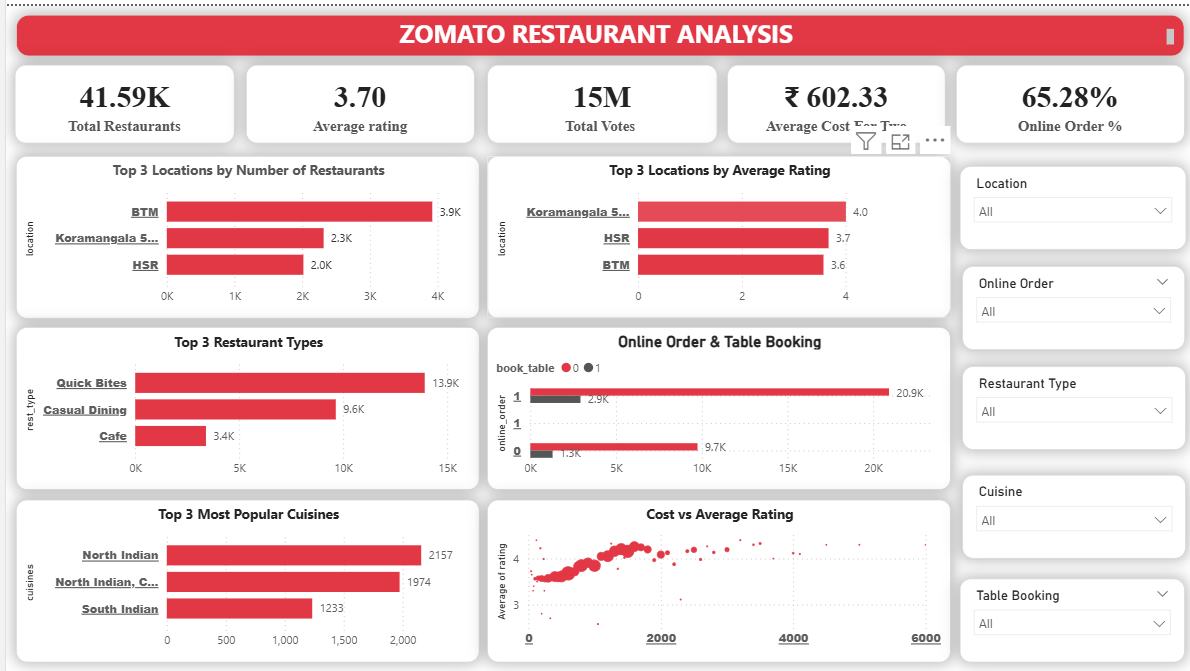

What the dashboard file says about the page in this screenshot:
{"tool":"powerbi","page":{"name":"Page 3","canvas":[1280,720],"ordinal":0},"visuals":[{"type":"textbox","box":[10.8,9.4,1258.7,44.4],"z":0},{"type":"card","fields":{"Values":["CountNonNull(zomato_cleaned.location)"]},"box":[9.4,63.3,236.9,85],"z":1000},{"type":"card","fields":{"Values":["Avg(zomato_cleaned.rating)"]},"box":[258.5,63.3,246.4,85],"z":2000},{"type":"card","fields":{"Values":["Sum(zomato_cleaned.votes)"]},"box":[518.3,63.3,247.7,85],"z":3000},{"type":"card","fields":{"Values":["zomato_cleaned.Average Cost"]},"box":[776.8,63.3,235.6,85],"z":4000},{"type":"card","fields":{"Values":["zomato_cleaned.Online Order %"]},"box":[1023.1,63.3,246.4,85],"z":5000},{"type":"clusteredBarChart","title":"Top 3 Locations by Number of Restaurants ","fields":{"Category":["zomato_cleaned.location"],"Y":["CountNonNull(zomato_cleaned.location)"]},"box":[10.8,161.5,499.5,175],"z":6000},{"type":"clusteredBarChart","title":"Top 3 Locations by Average Rating","fields":{"Category":["zomato_cleaned.location"],"Y":["Avg(zomato_cleaned.rating)"]},"box":[518.3,161.5,499.5,175],"z":7000},{"type":"clusteredBarChart","title":"Top 3 Restaurant Types ","fields":{"Category":["zomato_cleaned.rest_type"],"Y":["CountNonNull(zomato_cleaned.rest_type)"]},"box":[10.8,346,499.5,175],"z":8000},{"type":"clusteredBarChart","title":"Online Order & Table Booking ","fields":{"Category":["zomato_cleaned.online_order"],"Y":["CountNonNull(zomato_cleaned.online_order)"],"Series":["zomato_cleaned.book_table"]},"box":[518.3,346,499.5,175],"z":9000},{"type":"clusteredBarChart","title":"Top 3 Most Popular Cuisines","fields":{"Category":["zomato_cleaned.cuisines"],"Y":["CountNonNull(zomato_cleaned.cuisines)"]},"box":[10.8,531.8,499.5,175],"z":10000},{"type":"scatterChart","title":"Cost vs Average Rating ","fields":{"X":["zomato_cleaned.approx_costfor_two_people"],"Size":["Sum(zomato_cleaned.votes)"],"Y":["zomato_cleaned.rating"]},"box":[518.3,531.8,499.5,175],"z":11000},{"type":"slicer","fields":{"Values":["zomato_cleaned.location"]},"box":[1027.2,172.3,243.7,90.2],"z":12000},{"type":"slicer","fields":{"Values":["zomato_cleaned.rest_type"]},"box":[1029.9,387.7,241,90.2],"z":13000},{"type":"slicer","fields":{"Values":["zomato_cleaned.cuisines"]},"box":[1029.9,504.8,241,90.2],"z":14000},{"type":"slicer","fields":{"Values":["zomato_cleaned.online_order"]},"box":[1029.9,280,239.6,90.2],"z":15000},{"type":"slicer","fields":{"Values":["zomato_cleaned.book_table"]},"box":[1027.2,616.6,242.3,90.2],"z":16000}]}

Visuals, with their boxes in screenshot pixels (x1, y1, x2, y2), scaled from the page's 1280x720 canvas onto the 1190x671 screenshot:
textbox: <region>10, 9, 1180, 50</region>
card - CountNonNull(zomato_cleaned.location): <region>9, 59, 229, 138</region>
card - Avg(zomato_cleaned.rating): <region>240, 59, 469, 138</region>
card - Sum(zomato_cleaned.votes): <region>482, 59, 712, 138</region>
card - zomato_cleaned.Average Cost: <region>722, 59, 941, 138</region>
card - zomato_cleaned.Online Order %: <region>951, 59, 1180, 138</region>
"Top 3 Locations by Number of Restaurants " clusteredBarChart: <region>10, 151, 474, 314</region>
"Top 3 Locations by Average Rating" clusteredBarChart: <region>482, 151, 946, 314</region>
"Top 3 Restaurant Types " clusteredBarChart: <region>10, 322, 474, 486</region>
"Online Order & Table Booking " clusteredBarChart: <region>482, 322, 946, 486</region>
"Top 3 Most Popular Cuisines" clusteredBarChart: <region>10, 496, 474, 659</region>
"Cost vs Average Rating " scatterChart: <region>482, 496, 946, 659</region>
slicer - zomato_cleaned.location: <region>955, 161, 1182, 245</region>
slicer - zomato_cleaned.rest_type: <region>957, 361, 1182, 445</region>
slicer - zomato_cleaned.cuisines: <region>957, 470, 1182, 555</region>
slicer - zomato_cleaned.online_order: <region>957, 261, 1180, 345</region>
slicer - zomato_cleaned.book_table: <region>955, 575, 1180, 659</region>
